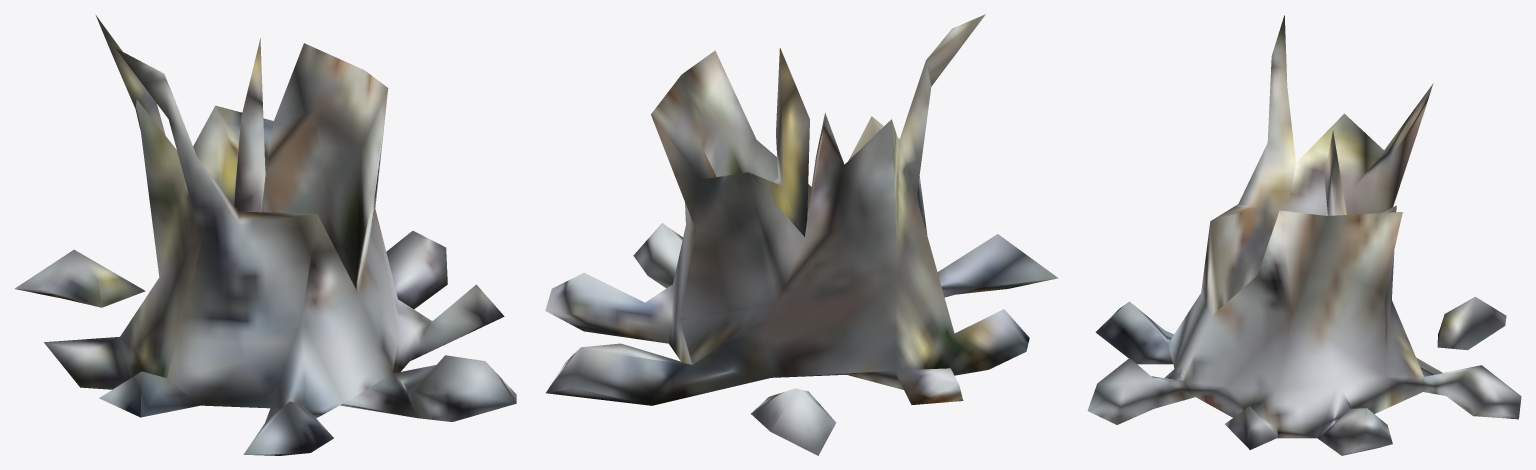
Rendered from FirstRoom_FrozenGrass.fbx.
3 views of the same model, side by side, from view 1: azimuth 30°, elevation 25°; view 2: azimuth 150°, elevation 25°; view 3: azimuth 270°, elevation 25° (orthographic). The views are drawn at different scales.
Parts seen in each view (by area): view 1: FirstRoom_FrozenGrass_Mesh; view 2: FirstRoom_FrozenGrass_Mesh; view 3: FirstRoom_FrozenGrass_Mesh.
Part boxes in pixels (box(x1,y1,x2,y2)): FirstRoom_FrozenGrass_Mesh: box(14, 15, 516, 455); FirstRoom_FrozenGrass_Mesh: box(545, 14, 1058, 455); FirstRoom_FrozenGrass_Mesh: box(1087, 15, 1521, 455).
Size of the model in its own units: 5.42 by 4.67 by 6.
1 material, 1 textured.
